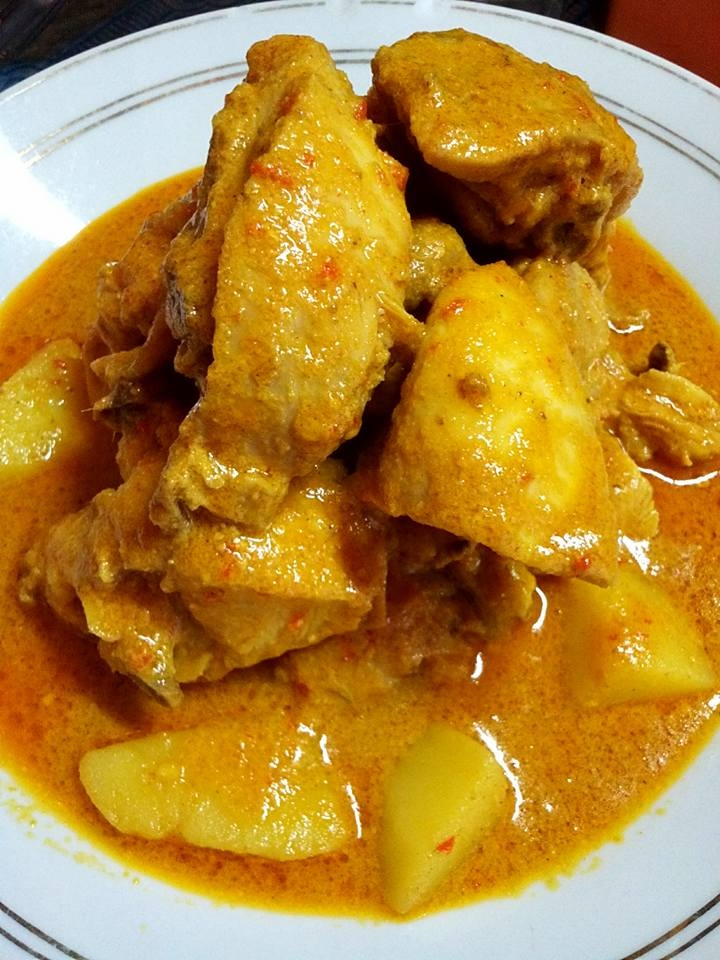gulai_ayam: (4, 46, 718, 916)
